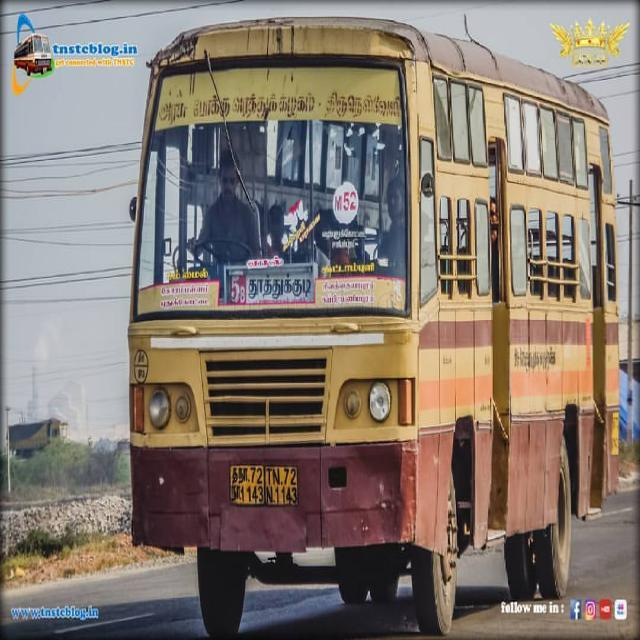Bus: (122, 12, 622, 634)
